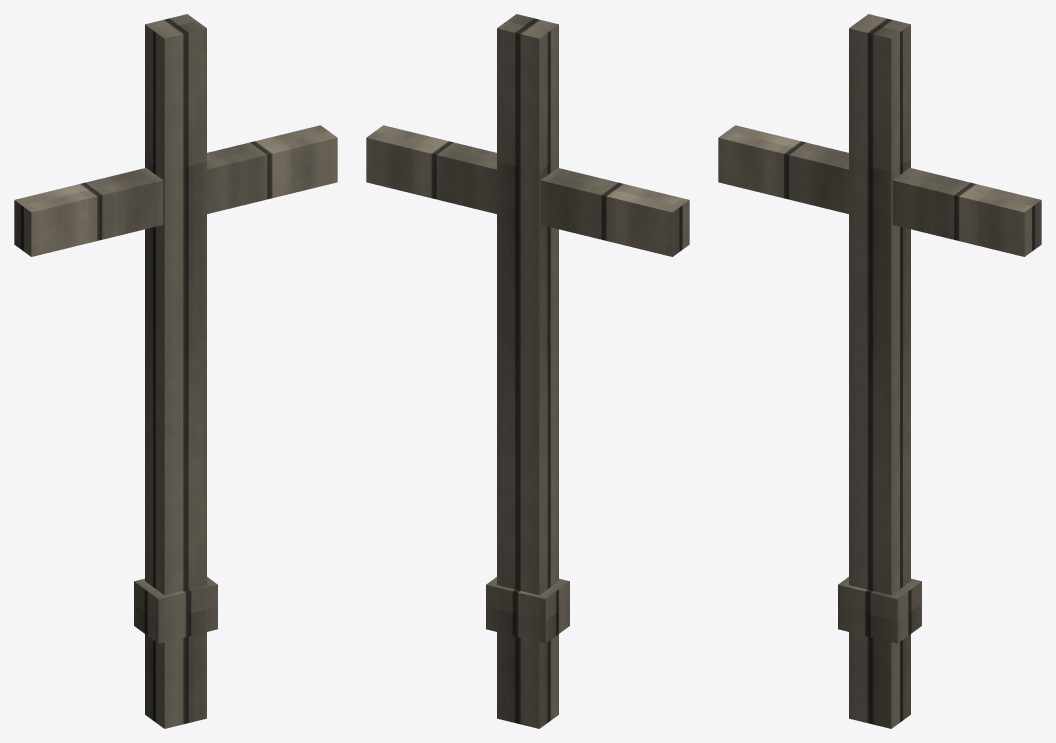
Rendered from Cross_Wood_1.gltf.
3 renders of one model, left to right at view 1: azimuth 30°, elevation 25°; view 2: azimuth 150°, elevation 25°; view 3: azimuth 330°, elevation 25°, orthographic.
Visible parts, largest first — view 1: Cross_Wood_1; view 2: Cross_Wood_1; view 3: Cross_Wood_1.
Boxes of the visible parts, x1,y1,x2,y2 form: Cross_Wood_1: (14, 14, 337, 728); Cross_Wood_1: (366, 14, 689, 728); Cross_Wood_1: (718, 14, 1041, 728).
Size of the model in its own units: 0.72 by 1.55 by 0.1.
Materials: 1 (1 with a texture image).
